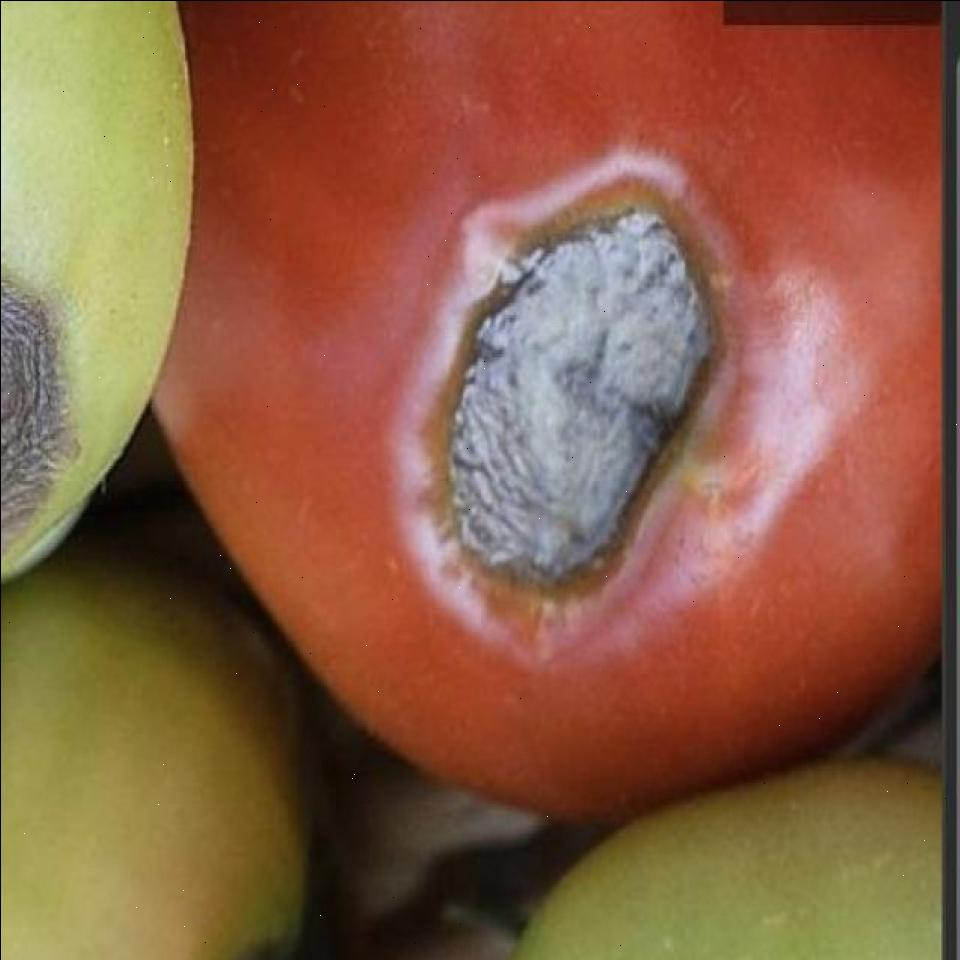Blossom_end_rot: (406, 154, 732, 663)
